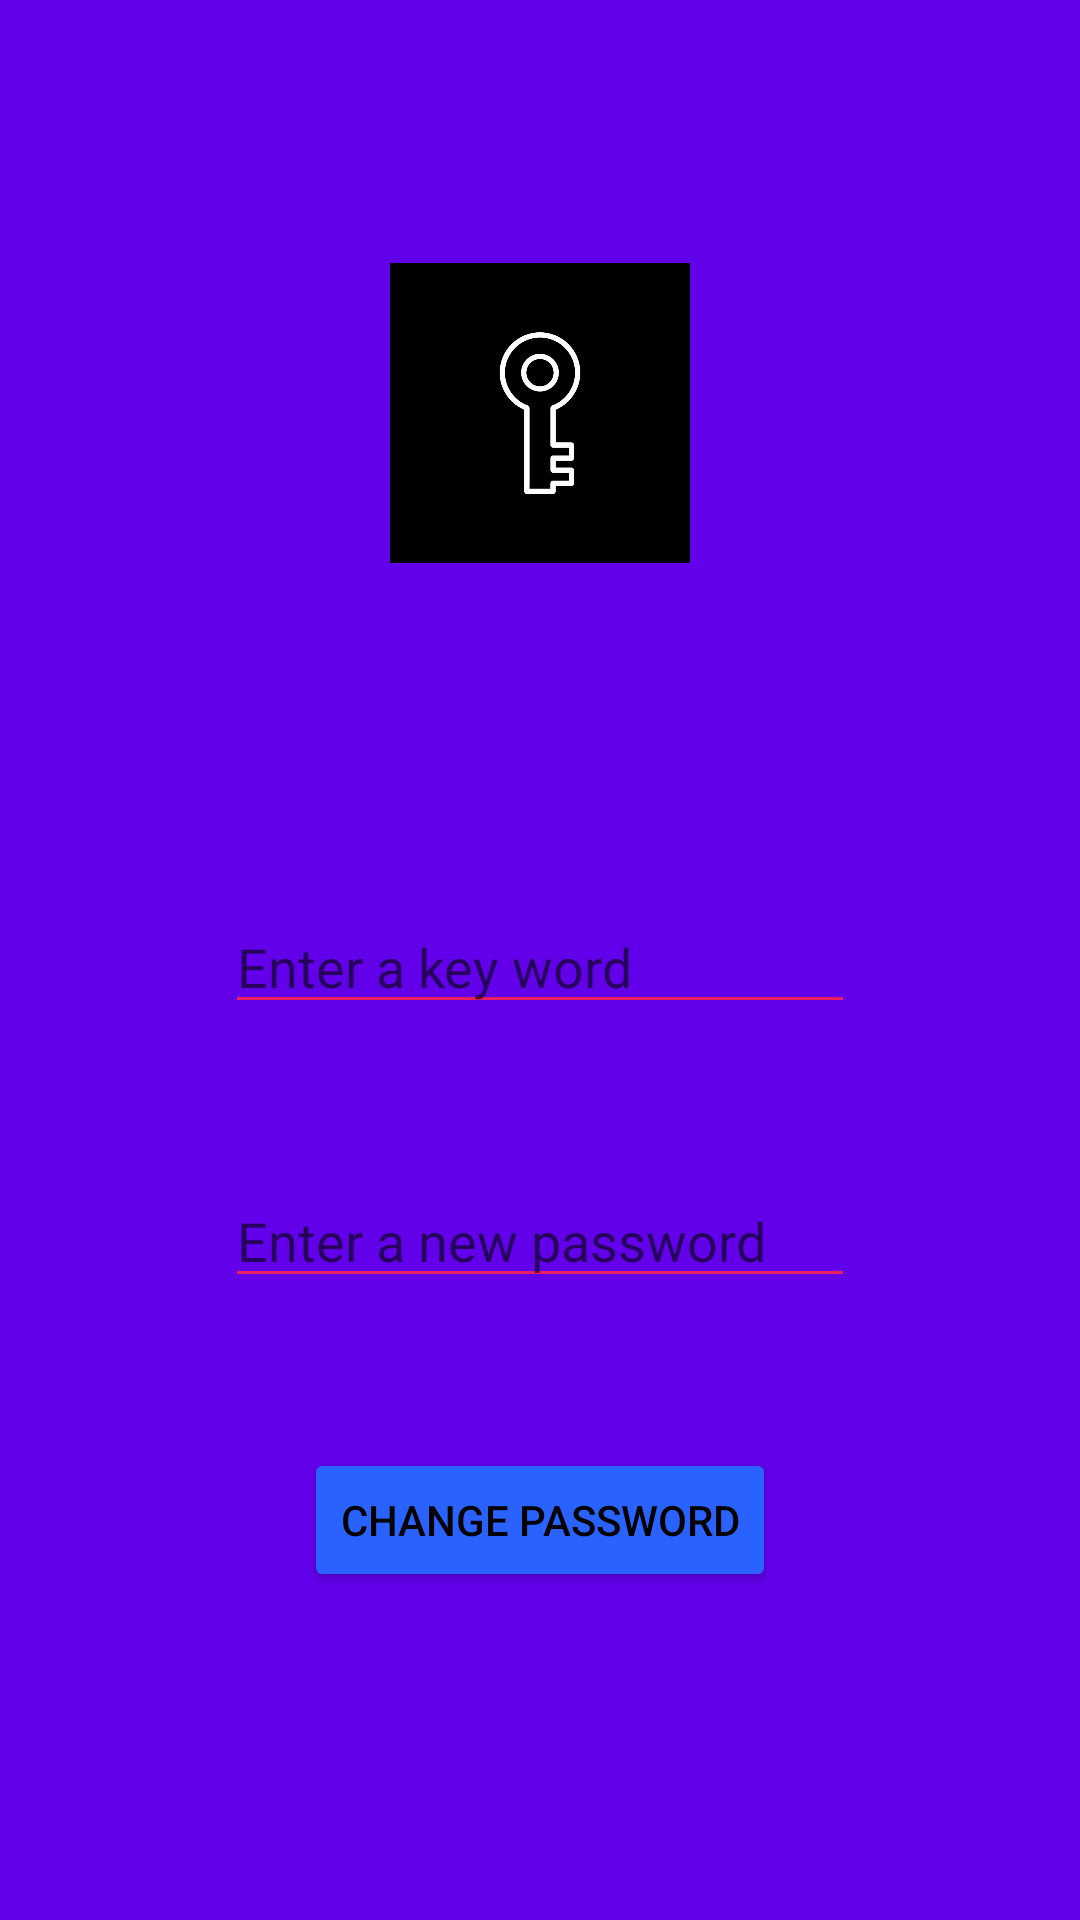

Named icons in this screenshot (1080x1920) and their bounding boxes, (x1, y1, x2, y2):
key: (390, 263, 690, 563)
